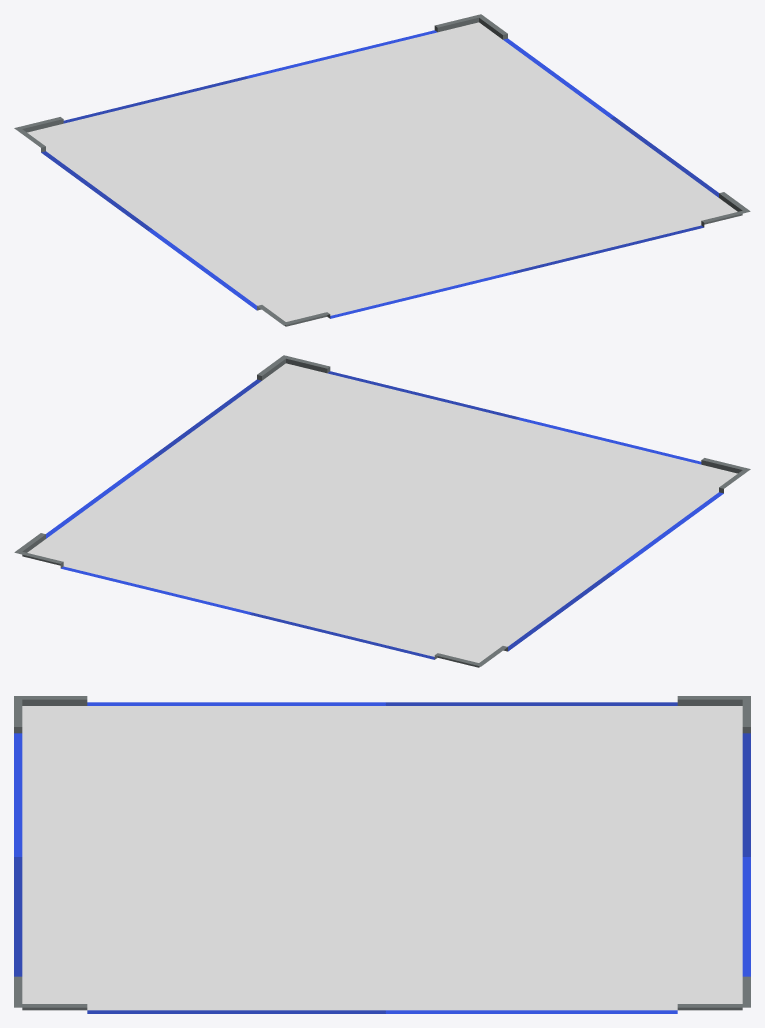
File: m_Dev_FloorTile.fbx
3 renders of one model, top to bottom at view 1: azimuth 30°, elevation 25°; view 2: azimuth 150°, elevation 25°; view 3: azimuth 270°, elevation 25°, orthographic. The views are drawn at different scales.
Visible parts, largest first — view 1: m_Dev_FloorTile; view 2: m_Dev_FloorTile; view 3: m_Dev_FloorTile.
Boxes of the visible parts, box(x1,y1,x2,y2) form: m_Dev_FloorTile: box(14, 14, 750, 326); m_Dev_FloorTile: box(14, 355, 750, 667); m_Dev_FloorTile: box(14, 696, 750, 1013).
Size of the model in its own units: 100 by 0.958 by 100.
